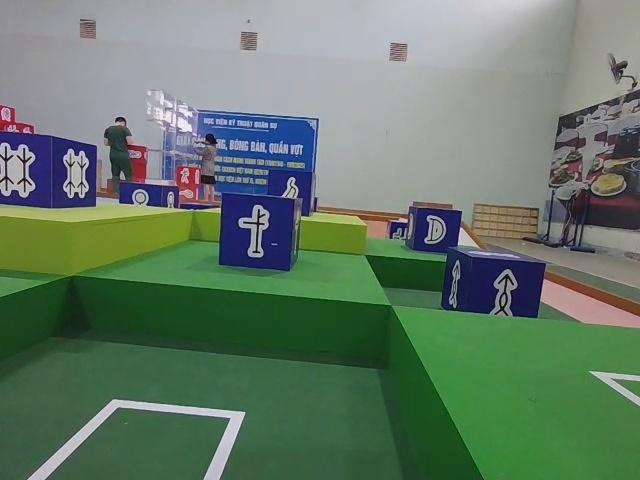R2 Real Blue: (2, 131, 97, 211), (442, 246, 546, 318), (218, 193, 302, 272), (405, 205, 462, 254), (268, 169, 317, 218), (119, 180, 179, 208)
